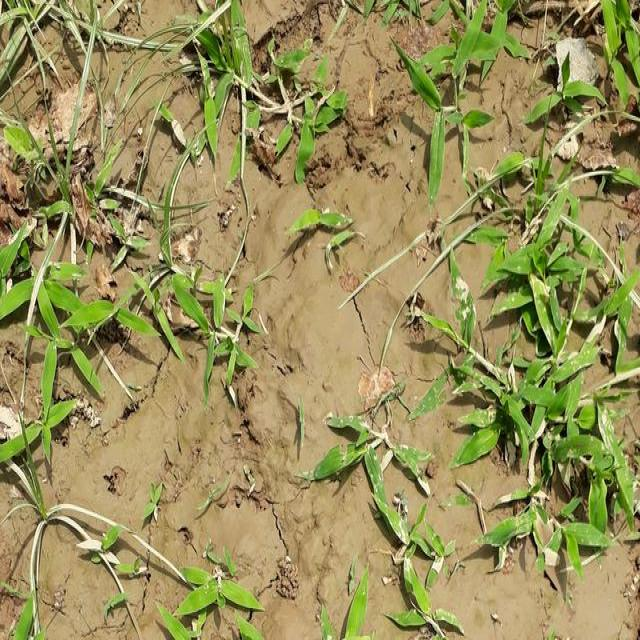weed: (429, 203, 640, 576), (0, 208, 241, 452), (315, 405, 462, 640), (173, 11, 374, 171), (398, 0, 496, 199)
